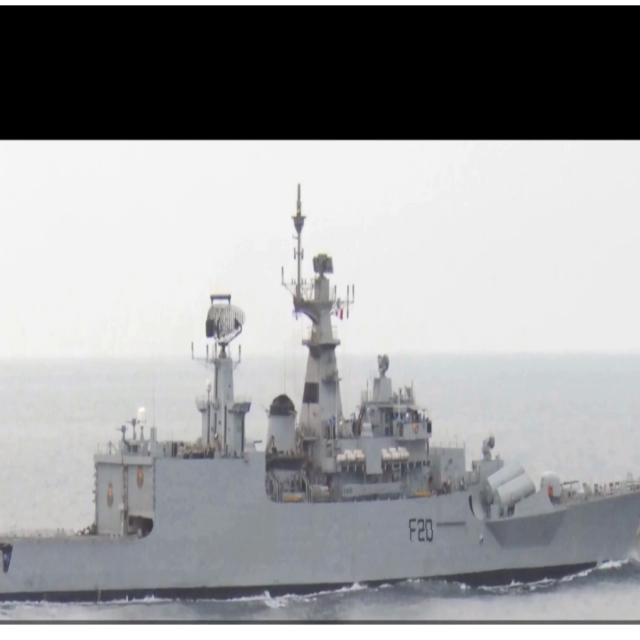OCR: (400, 508, 436, 549)
